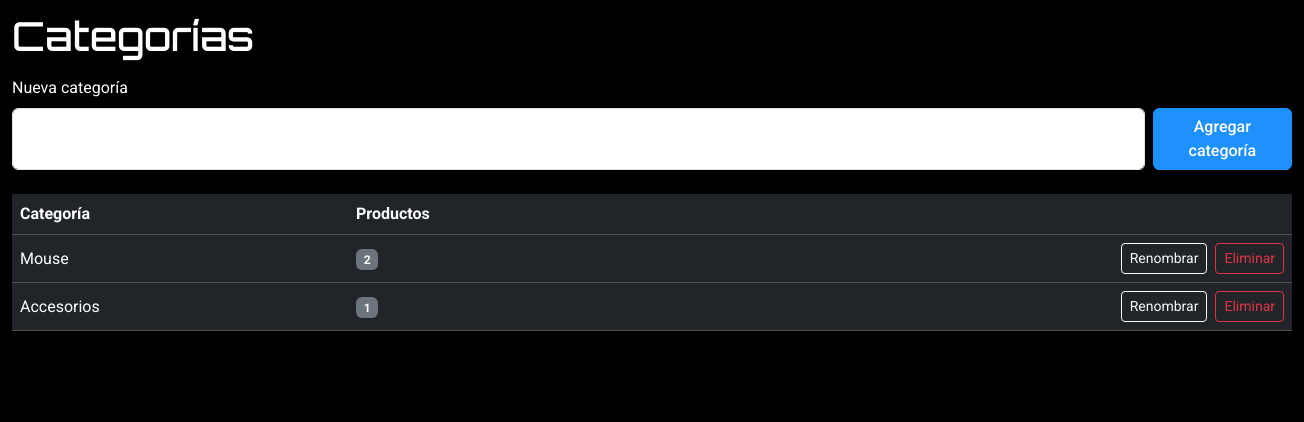
Test case: AdminCategoriasView › elimina una categoría cuando se confirma
Click the button with aria-label "Eliminar Accesorios": [1250, 306] box left=1216, top=291, right=1284, bottom=322
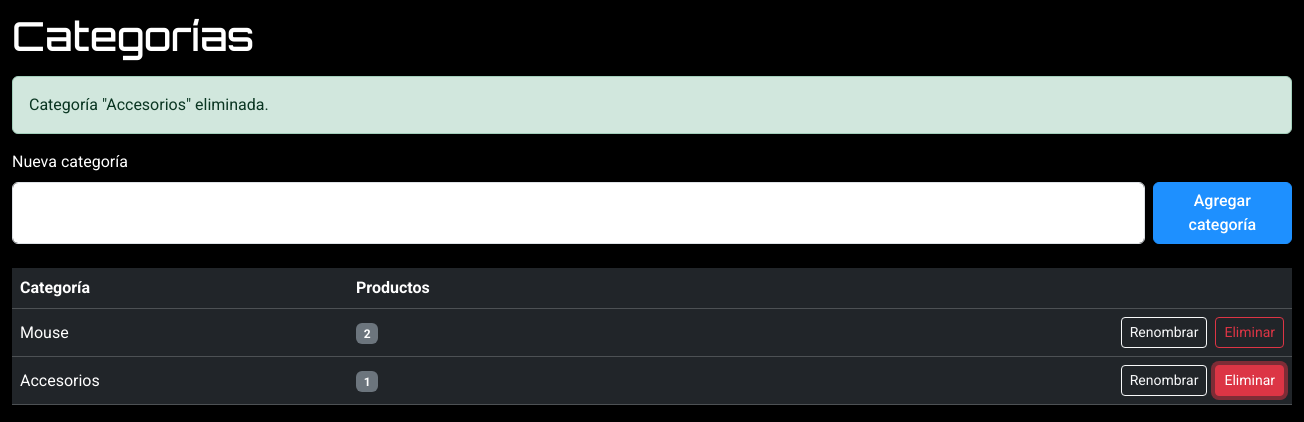
Expected: the message reads "Categoría \"Accesorios\" eliminada.", left=29, top=95, right=269, bottom=114
